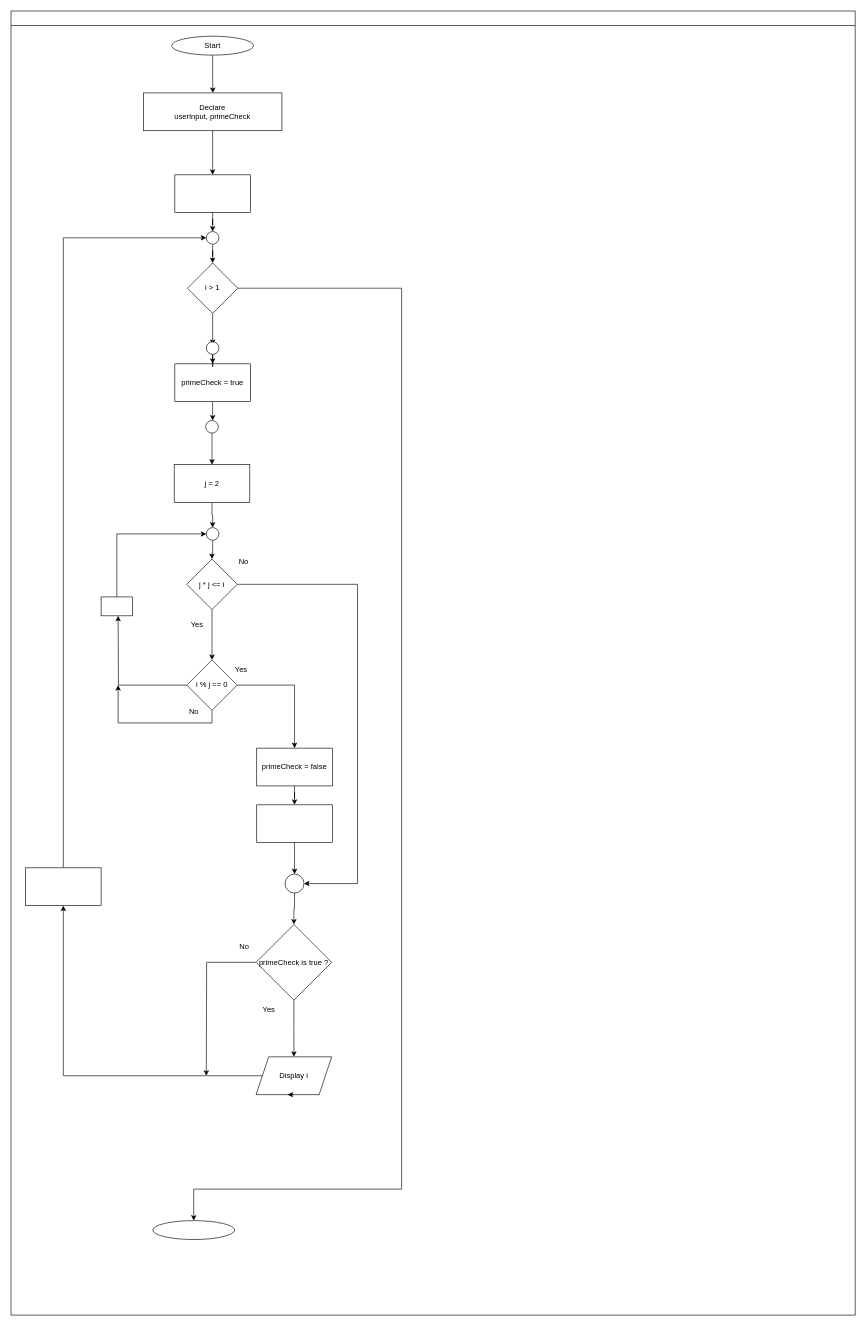
Image size: 866x1326. Some labels were removed from this diagram. The shapes that lost their labels are listed below. From the top down, each one's centre as x and y in pixels, then its label:
the point at 212,193: i = userInput
the point at 116,606: j++
the point at 294,823: break
the point at 63,886: i--
the point at 193,1230: End
